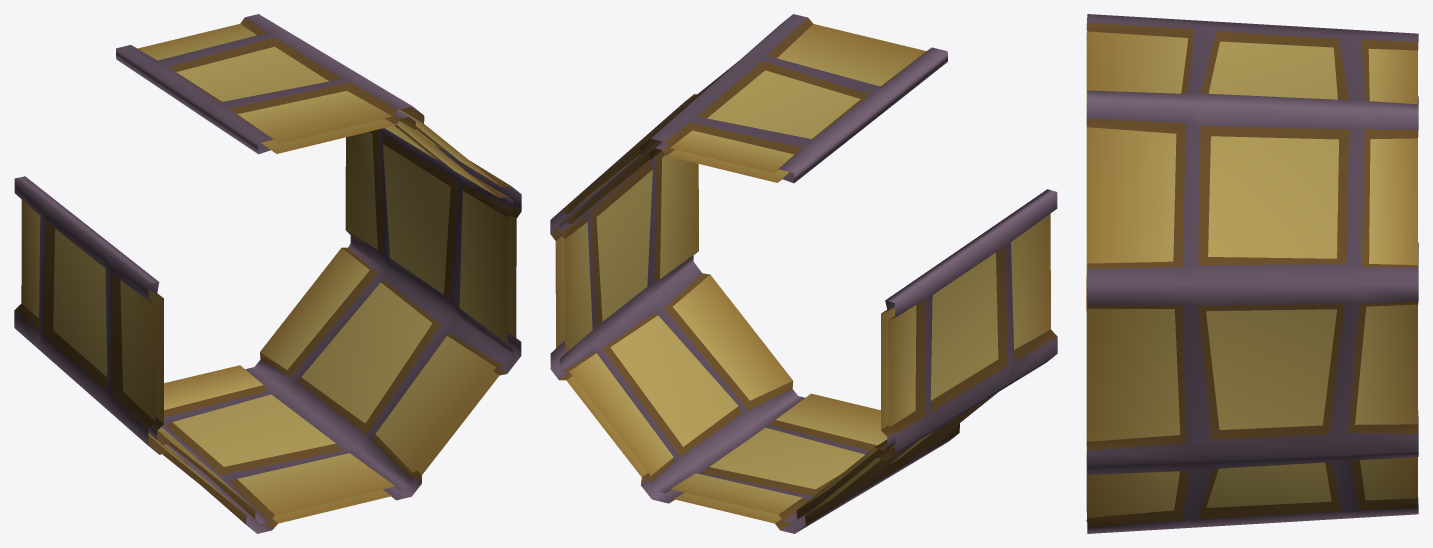
File: LighthouseGlassWallsLightOff.fbx
The picture shows the model from 3 angles, left to right: view 1: azimuth 30°, elevation 25°; view 2: azimuth 150°, elevation 25°; view 3: azimuth 270°, elevation 25°; orthographic projection. The views are drawn at different scales.
Visible parts, largest first — view 1: LighthouseGlassWallsLightOff; view 2: LighthouseGlassWallsLightOff; view 3: LighthouseGlassWallsLightOff.
Boxes of the visible parts, x1,y1,x2,y2 form: LighthouseGlassWallsLightOff: (14,14,521,533); LighthouseGlassWallsLightOff: (550,14,1057,533); LighthouseGlassWallsLightOff: (1086,14,1418,533).
Bounding box in the file's own units: 230 × 230 × 159.
